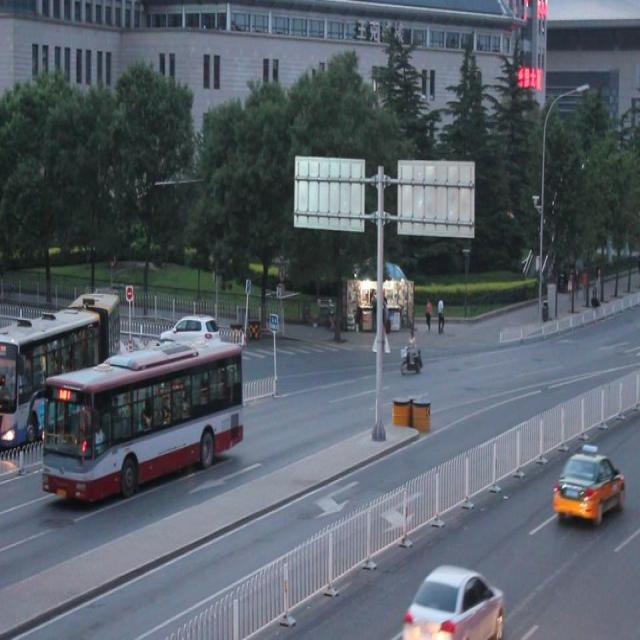car: (399, 559, 504, 640), (551, 443, 622, 524), (162, 309, 223, 359), (121, 332, 167, 387)
van: (46, 338, 242, 499), (0, 289, 120, 446)
